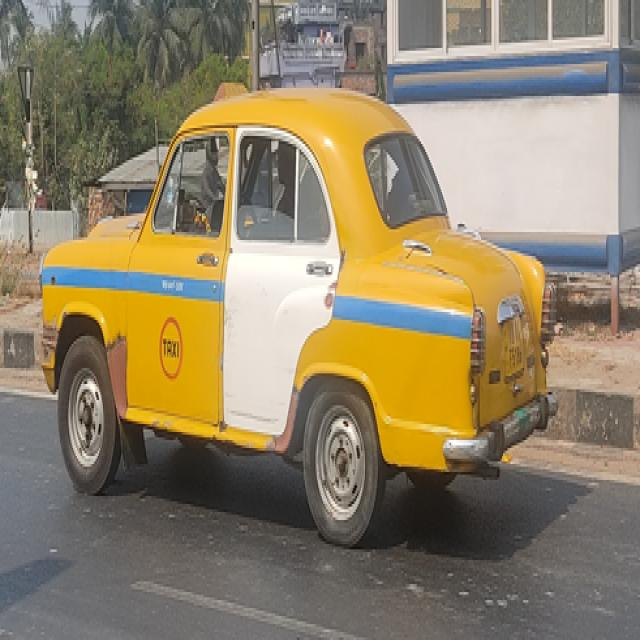ambasador_taxi: (38, 93, 557, 551)
